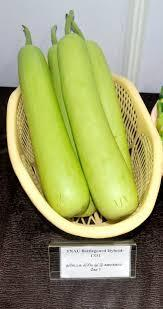bottle gourd: (48, 9, 139, 221), (16, 23, 96, 218)
